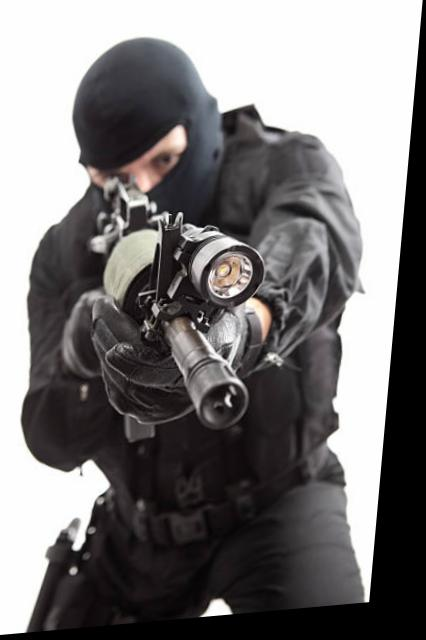other: (15, 18, 370, 635)
